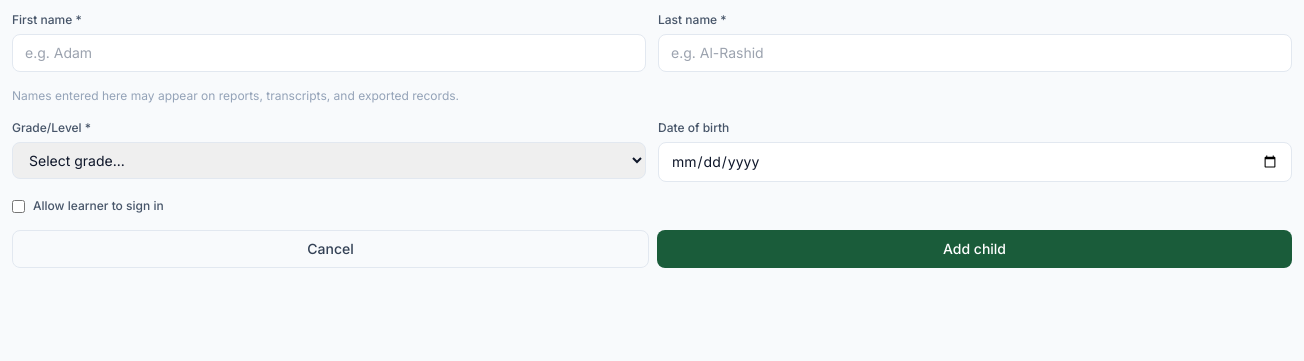
Test: ChildForm — Wave 7 FB-002 › username and password visible when learner login toggle is enabled
The image size is (1304, 361).
What coordinates should you click on to do the following:
click the checkbox labelled "Allow learner to sign in"
I would click on:
 (18, 206)
Its box is [12, 200, 25, 212].
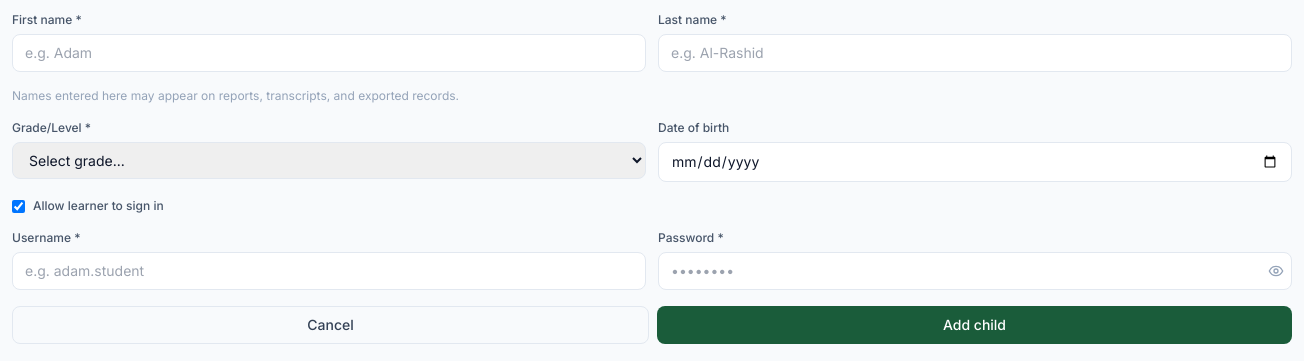
expect the field labelled "Username *" is shown: met, box [12, 252, 646, 290]
expect the password field labelled "Password *" is shown: met, box [658, 252, 1292, 290]
